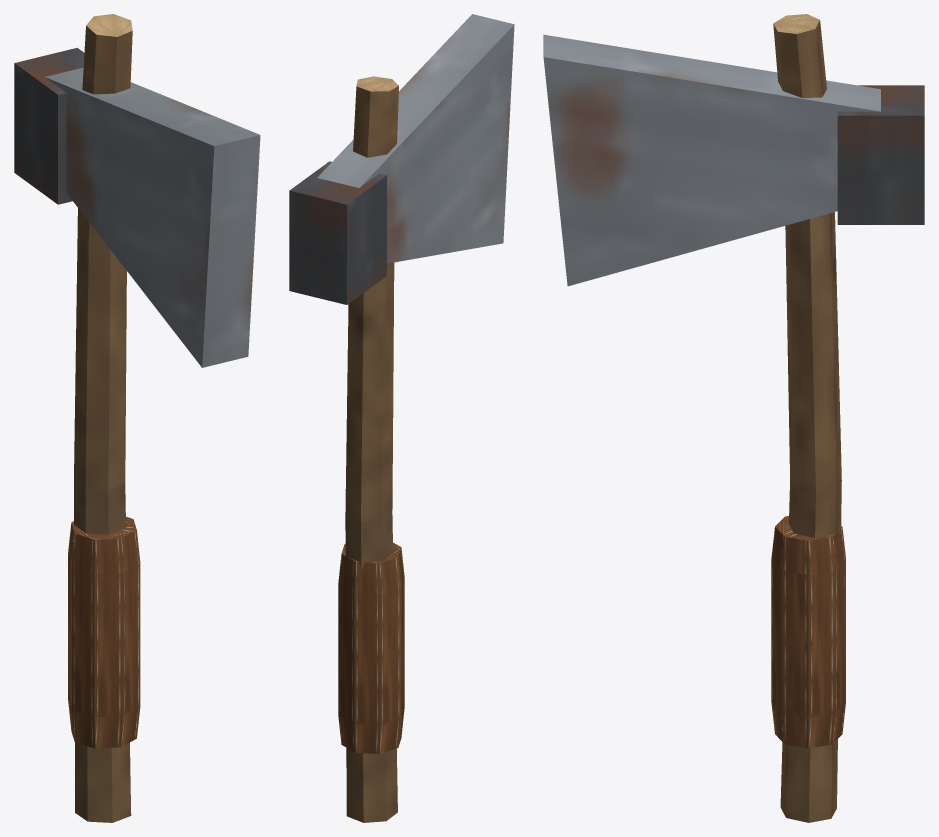
Rendered from SM_Axe_Iron.fbx.
The picture shows the model from 3 angles, left to right: view 1: azimuth 30°, elevation 25°; view 2: azimuth 150°, elevation 25°; view 3: azimuth 270°, elevation 25°; orthographic projection. The views are drawn at different scales.
Parts seen in each view (by area): view 1: SM_Axe_Iron; view 2: SM_Axe_Iron; view 3: SM_Axe_Iron.
Boxes of the visible parts, bbox=[...] form: SM_Axe_Iron: bbox=[14, 14, 260, 822]; SM_Axe_Iron: bbox=[289, 14, 514, 822]; SM_Axe_Iron: bbox=[543, 14, 924, 822].
Bounding box in the file's own units: 0.31 × 3.61 × 1.58.
1 material, 1 textured.
